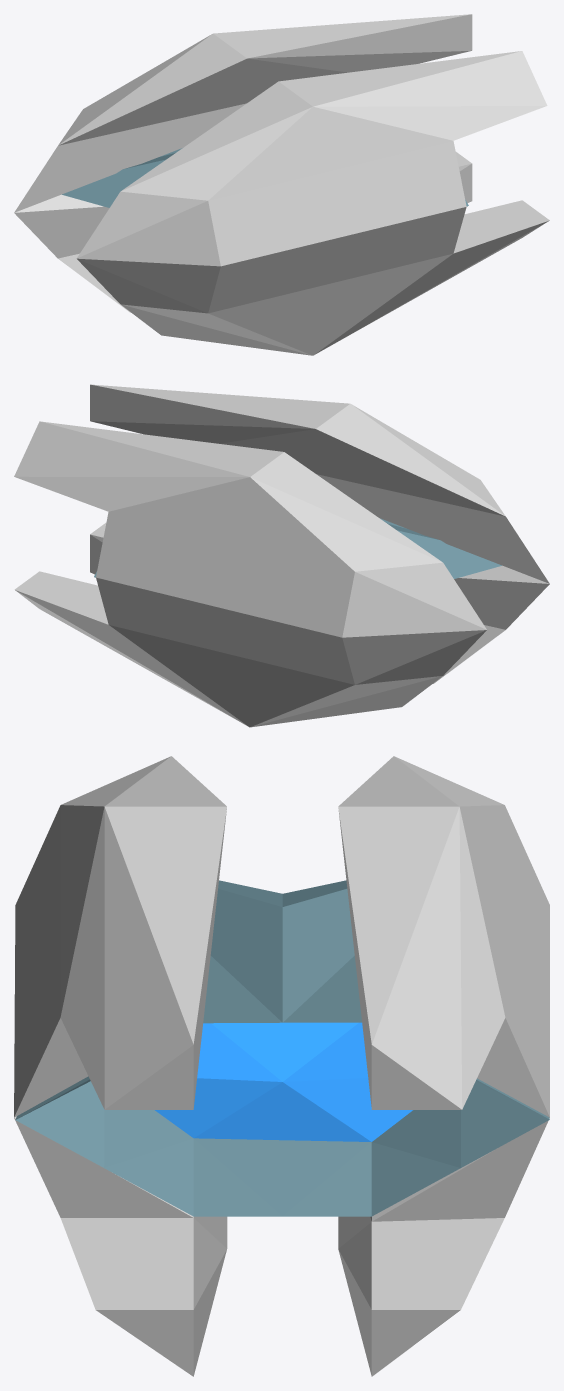
File: weapon_blaster.glb
3 renders of one model, top to bottom at view 1: azimuth 30°, elevation 25°; view 2: azimuth 150°, elevation 25°; view 3: azimuth 270°, elevation 25°, orthographic. The views are drawn at different scales.
Visible parts, largest first — view 1: energy; view 2: energy; view 3: energy.
Part boxes in pixels (bbox=[...]): energy: bbox=[14, 14, 549, 355]; energy: bbox=[14, 384, 549, 727]; energy: bbox=[14, 756, 549, 1376].
Bounding box in the file's own units: 31.22 × 16.44 × 18.05.
